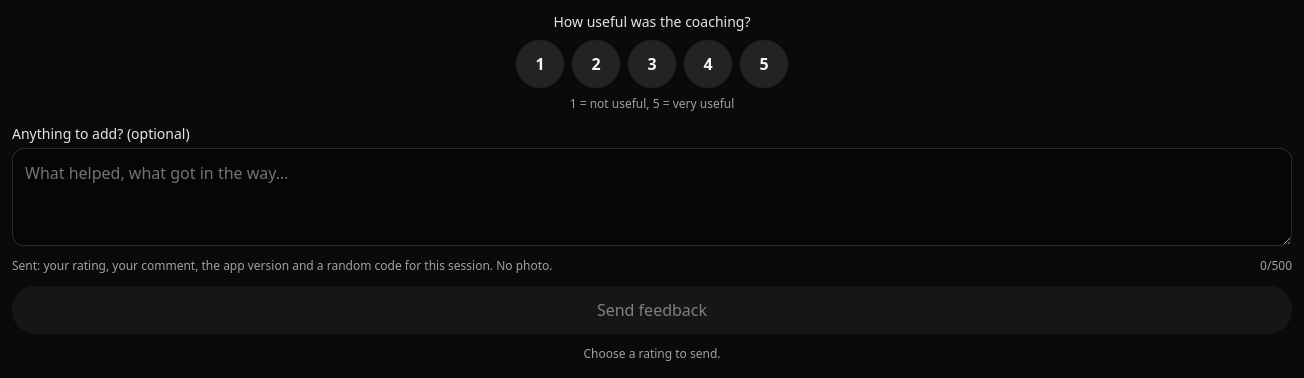
Scenario: FeedbackForm › sends once however many times the button is tapped
Later steps or results of the test are not shown.
Click the radio button labelled "5". click: (764, 64)
box: 740,40 -> 788,88
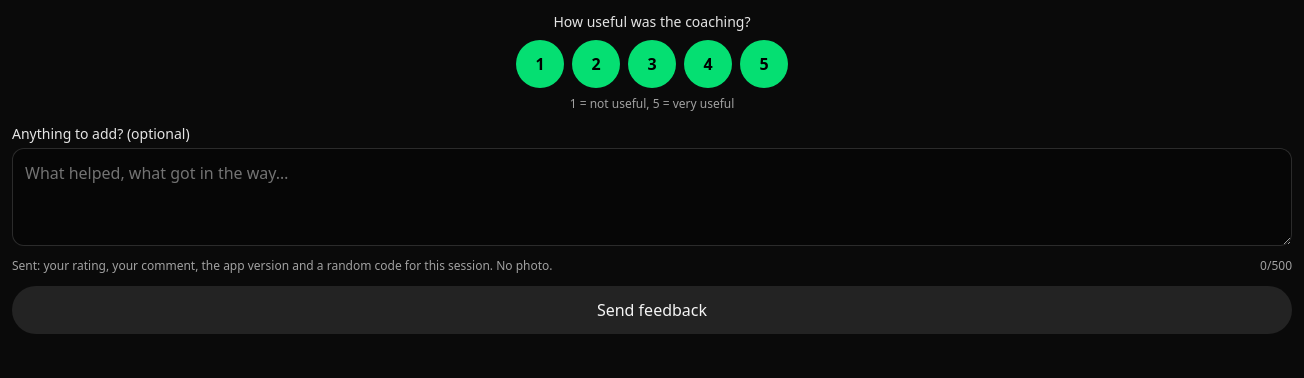
Submit the form named "Send feedback"
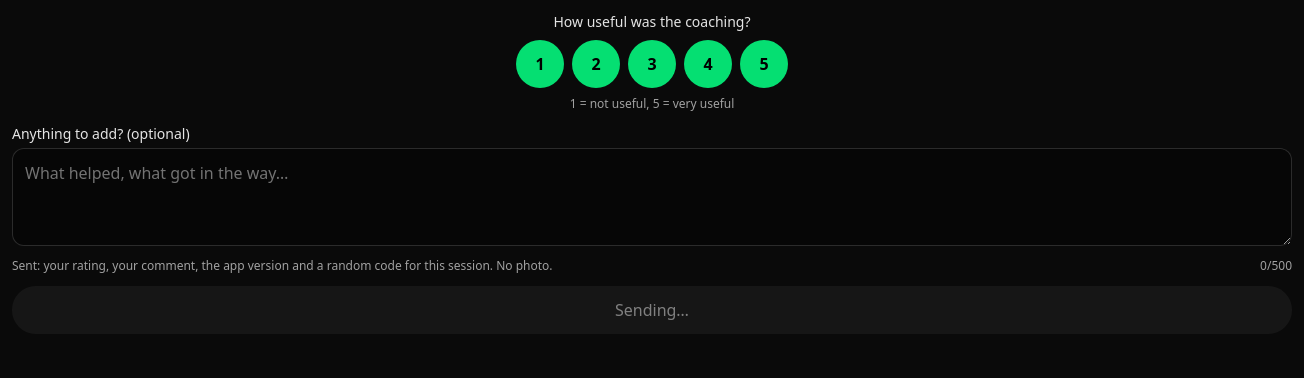
Submit the form named "Send feedback"
Submit the form named "Send feedback"
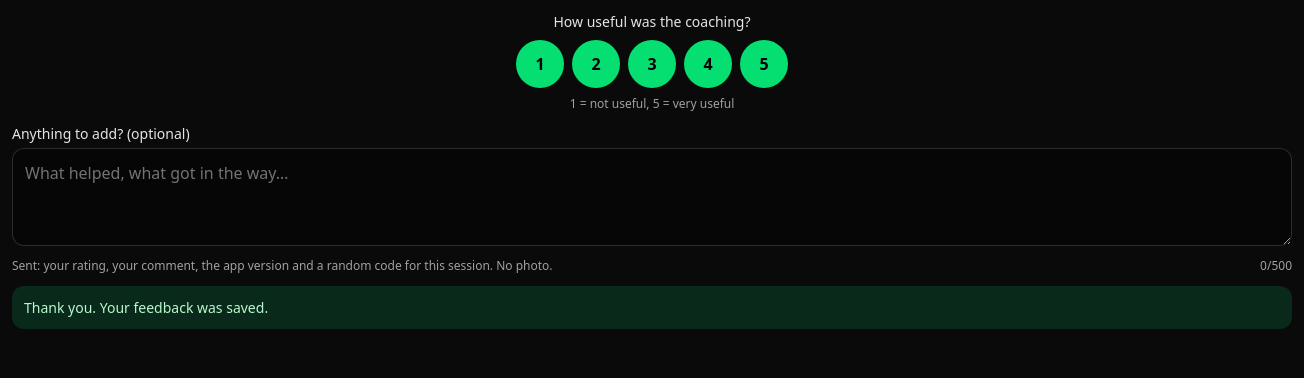
Now the text "Thank you. Your feedback was saved." is shown, box 12,286 -> 1292,329
